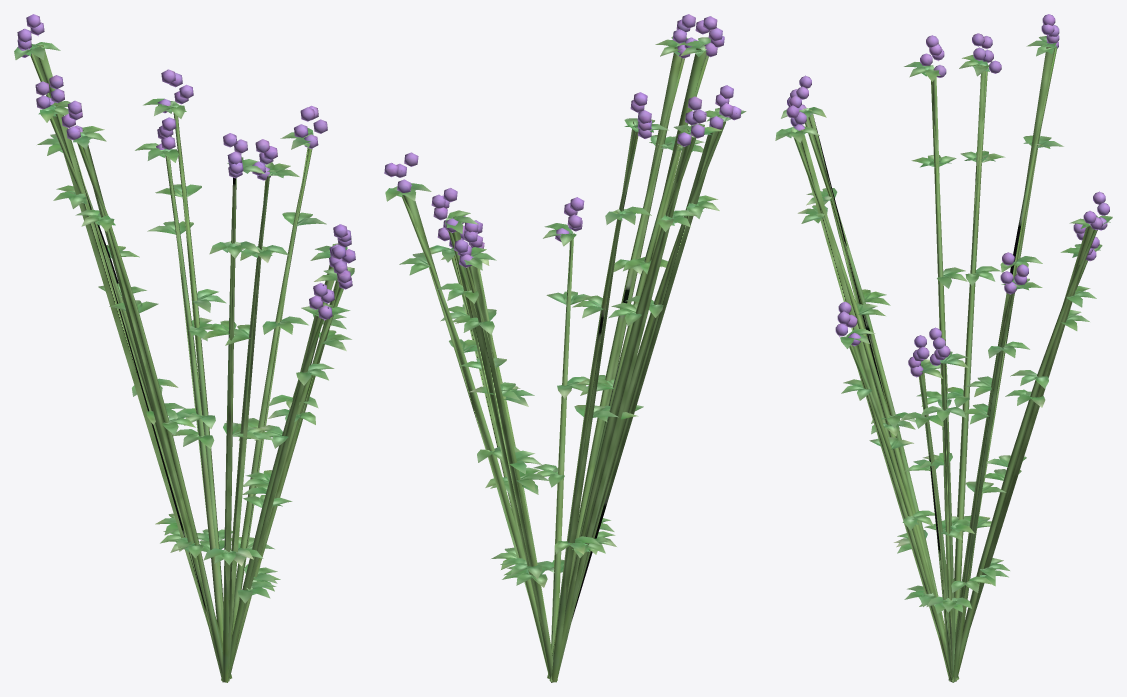
Rendered from alfalfa.glb.
The picture shows the model from 3 angles, left to right: view 1: azimuth 30°, elevation 25°; view 2: azimuth 150°, elevation 25°; view 3: azimuth 270°, elevation 25°; orthographic projection. The views are drawn at different scales.
Parts seen in each view (by area): view 1: alfalfa, alfalfa_lp; view 2: alfalfa, alfalfa_lp; view 3: alfalfa, alfalfa_lp.
Part boxes in pixels (box(x1,y1,x2,y2)): alfalfa: box(14, 14, 355, 682); alfalfa_lp: box(23, 29, 345, 681); alfalfa: box(384, 14, 746, 682); alfalfa_lp: box(384, 16, 736, 681); alfalfa: box(775, 14, 1112, 682); alfalfa_lp: box(785, 18, 1110, 681).
Bounding box in the file's own units: 0.3477 × 0.7221 × 0.3647.
Materials: 2 (2 with a texture image).
